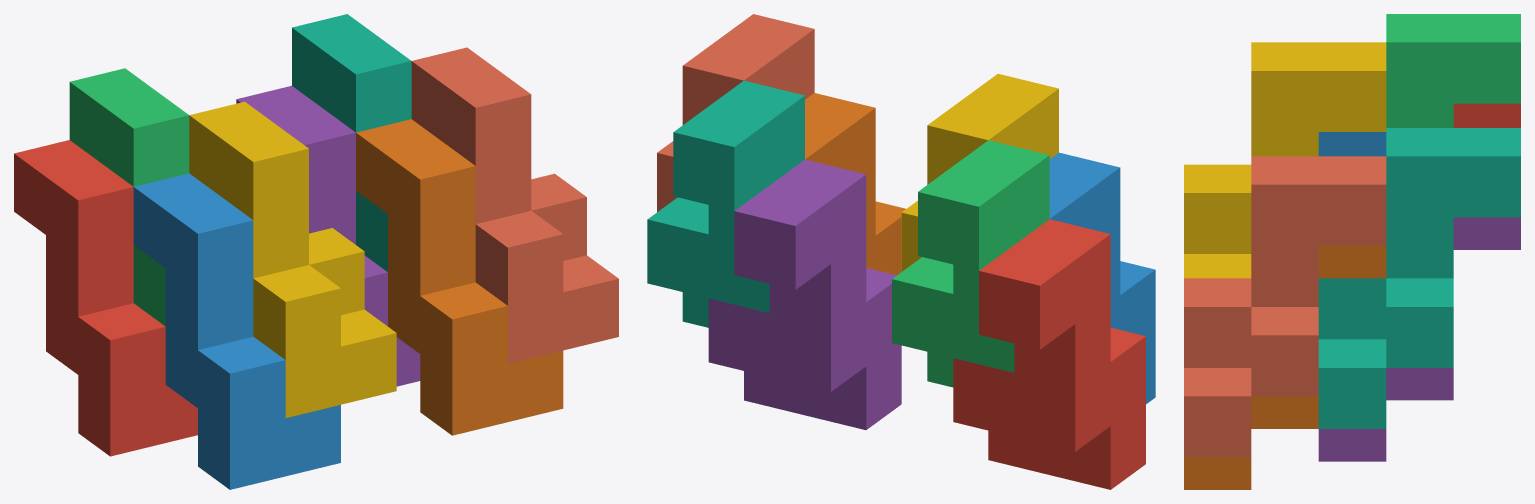
File: tiling.obj
3 renders of one model, left to right at view 1: azimuth 30°, elevation 25°; view 2: azimuth 150°, elevation 25°; view 3: azimuth 270°, elevation 25°, orthographic. The views are drawn at different scales.
Parts seen in each view (by area): view 1: copy_1_domain_2, copy_1_domain_6, copy_1_domain_8, copy_1_domain_4, copy_1_domain_1, copy_1_domain_3, copy_1_domain_7, copy_1_domain_5; view 2: copy_1_domain_1, copy_1_domain_5, copy_1_domain_7, copy_1_domain_3, copy_1_domain_8, copy_1_domain_4, copy_1_domain_2, copy_1_domain_6; view 3: copy_1_domain_8, copy_1_domain_7, copy_1_domain_4, copy_1_domain_3, copy_1_domain_6, copy_1_domain_5, copy_1_domain_2, copy_1_domain_1.
Part boxes in pixels (left/top/right/bottom): copy_1_domain_2: left=133, top=173, right=340, bottom=489; copy_1_domain_6: left=356, top=119, right=563, bottom=435; copy_1_domain_8: left=411, top=47, right=618, bottom=363; copy_1_domain_4: left=189, top=101, right=396, bottom=417; copy_1_domain_1: left=14, top=140, right=197, bottom=456; copy_1_domain_3: left=69, top=68, right=189, bottom=326; copy_1_domain_7: left=292, top=14, right=411, bottom=271; copy_1_domain_5: left=236, top=85, right=420, bottom=386; copy_1_domain_1: left=953, top=219, right=1145, bottom=489; copy_1_domain_5: left=708, top=159, right=901, bottom=429; copy_1_domain_7: left=647, top=80, right=804, bottom=327; copy_1_domain_3: left=892, top=140, right=1049, bottom=387; copy_1_domain_8: left=657, top=14, right=814, bottom=211; copy_1_domain_4: left=901, top=73, right=1058, bottom=271; copy_1_domain_2: left=1049, top=152, right=1155, bottom=403; copy_1_domain_6: left=805, top=93, right=905, bottom=275; copy_1_domain_8: left=1184, top=156, right=1386, bottom=457; copy_1_domain_7: left=1318, top=128, right=1520, bottom=428; copy_1_domain_4: left=1184, top=42, right=1386, bottom=278; copy_1_domain_3: left=1386, top=14, right=1520, bottom=127; copy_1_domain_6: left=1184, top=245, right=1386, bottom=489; copy_1_domain_5: left=1318, top=217, right=1520, bottom=461; copy_1_domain_2: left=1318, top=132, right=1386, bottom=156; copy_1_domain_1: left=1453, top=103, right=1520, bottom=127.
Bounding box in the file's own units: 8 × 5 × 5.
